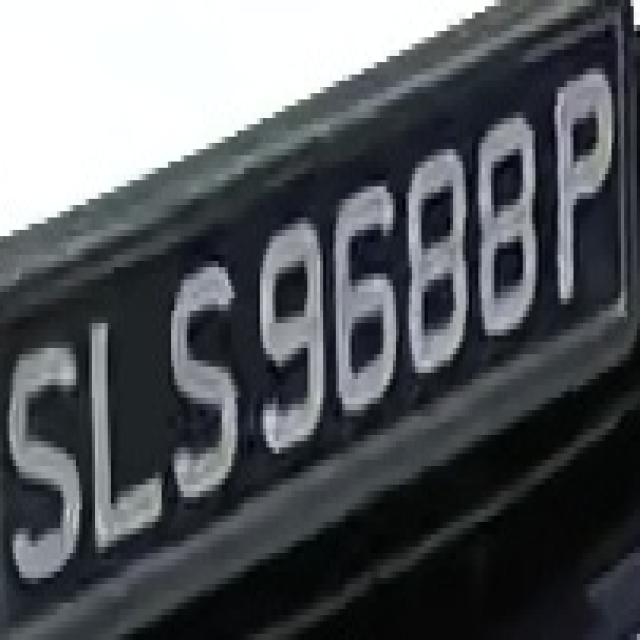6: (330, 174, 399, 435)
8: (466, 93, 548, 342), (402, 143, 478, 379)
9: (250, 212, 333, 478)
L: (79, 286, 171, 553)
P: (538, 62, 630, 305)
S: (158, 255, 254, 510), (7, 310, 82, 596)
